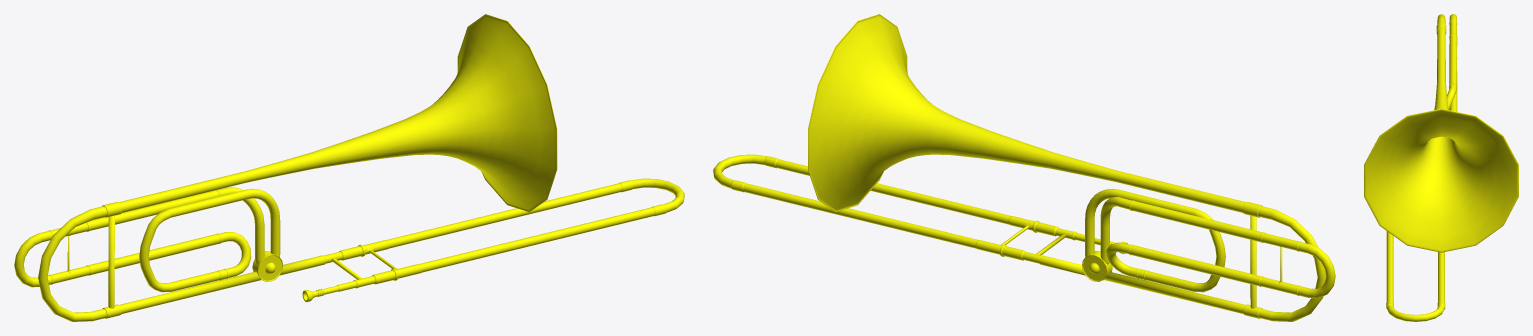
File: Tronbone.fbx
3 views of the same model, side by side, from view 1: azimuth 30°, elevation 25°; view 2: azimuth 150°, elevation 25°; view 3: azimuth 270°, elevation 25° (orthographic). The views are drawn at different scales.
Visible parts, largest first — view 1: mainbody; view 2: mainbody; view 3: mainbody.
Part boxes in pixels (bbox=[...]): mainbody: bbox=[14, 14, 684, 321]; mainbody: bbox=[713, 14, 1335, 321]; mainbody: bbox=[1364, 14, 1518, 321].
Size of the model in its own units: 1317 by 393 by 353.
